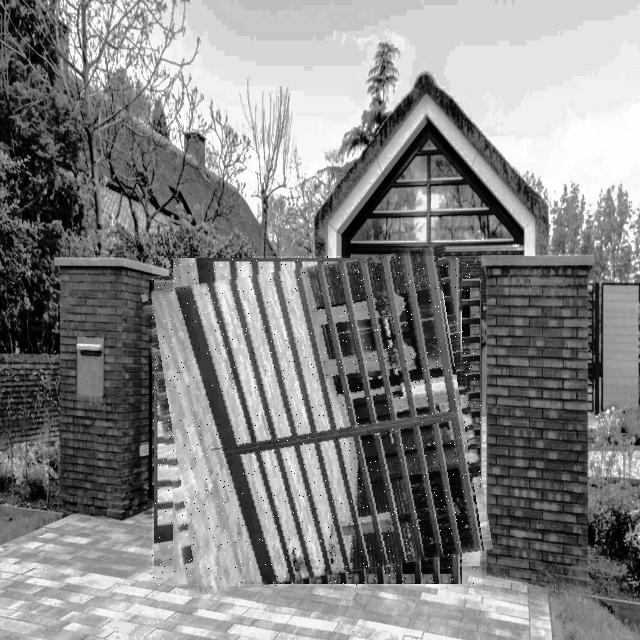fences: (152, 256, 482, 586)
